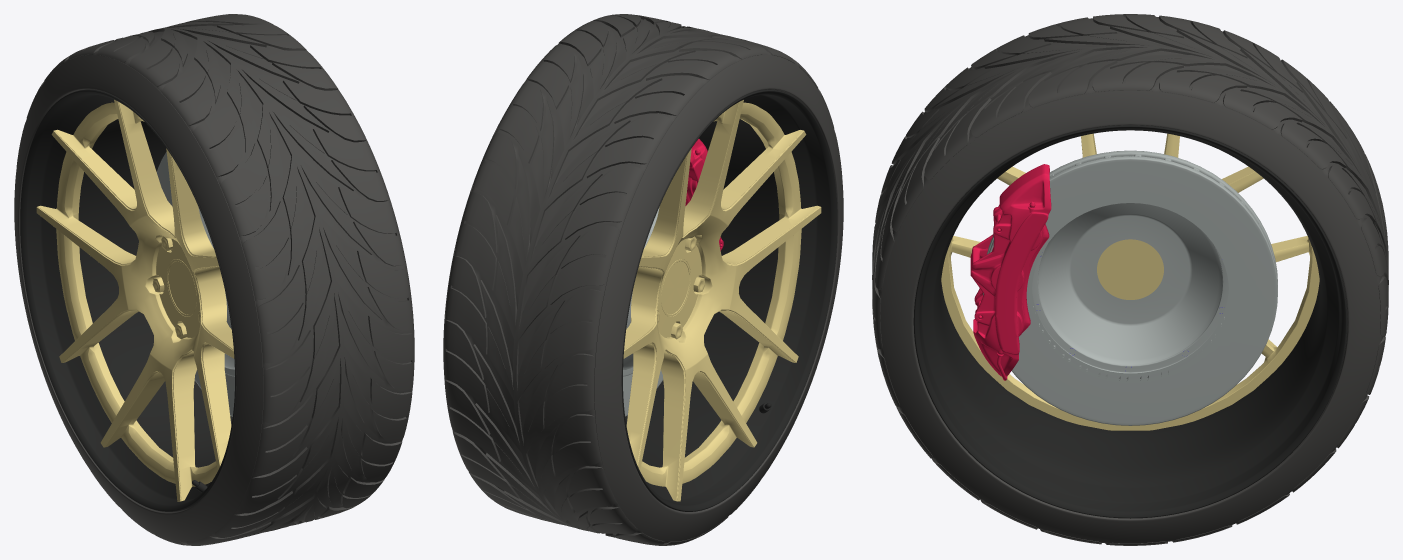
The model's file is wheel3d.gltf.
The picture shows the model from 3 angles, left to right: view 1: azimuth 30°, elevation 25°; view 2: azimuth 150°, elevation 25°; view 3: azimuth 270°, elevation 25°; orthographic projection.
Visible parts, largest first — view 1: wheel3d; view 2: wheel3d; view 3: wheel3d.
Boxes of the visible parts, box(x1,y1,x2,y2) form: wheel3d: box(14, 14, 414, 545); wheel3d: box(443, 14, 843, 545); wheel3d: box(872, 14, 1388, 545).
Size of the model in its own units: 14.69 by 37.65 by 37.65.
